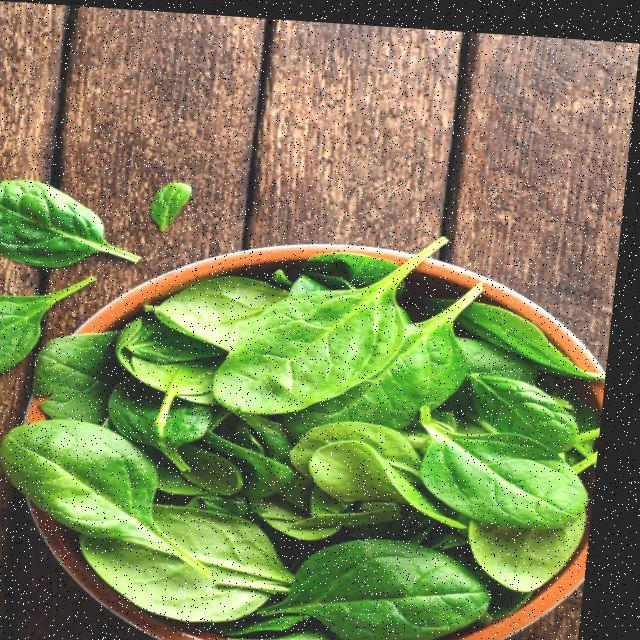Spinach: (0, 230, 621, 640), (0, 168, 150, 384)
